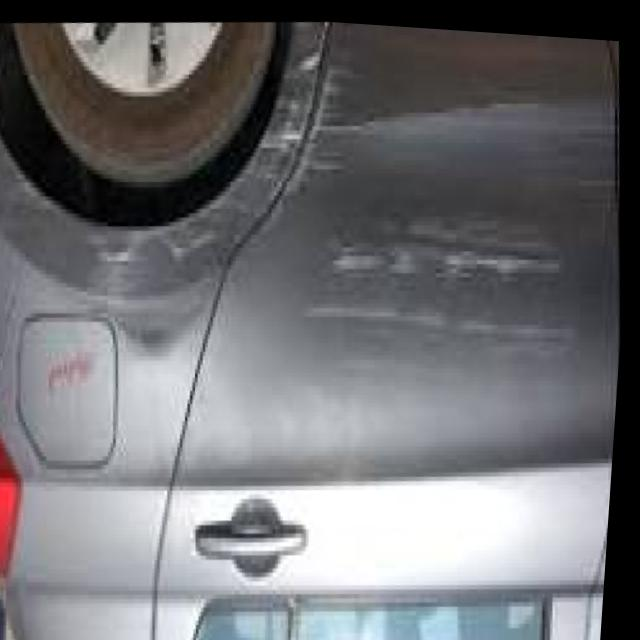Scratch: (90, 18, 321, 318), (293, 202, 595, 399)
